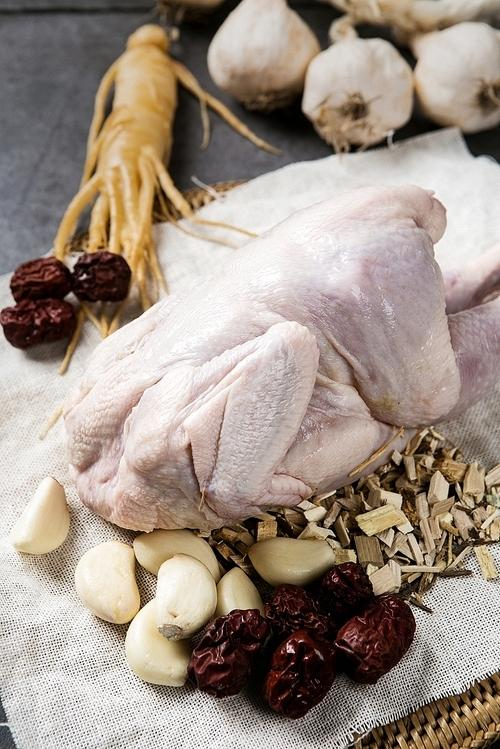chicken: (42, 214, 361, 631)
